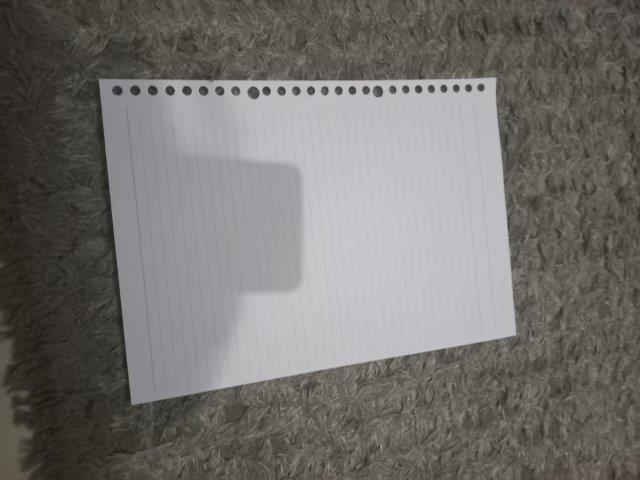kertas: (97, 77, 515, 406)
